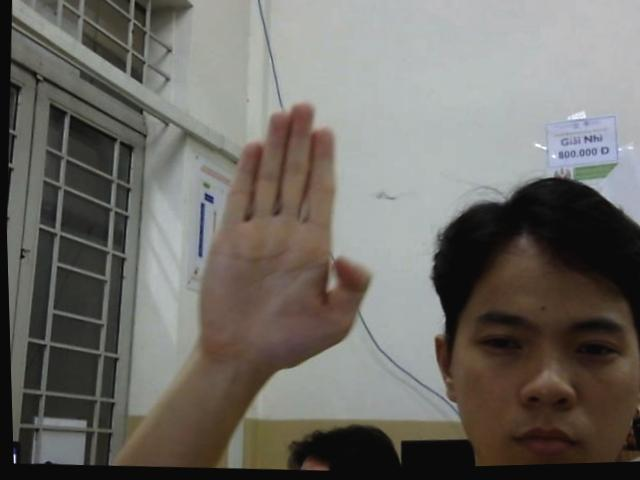B: (182, 91, 383, 377)
